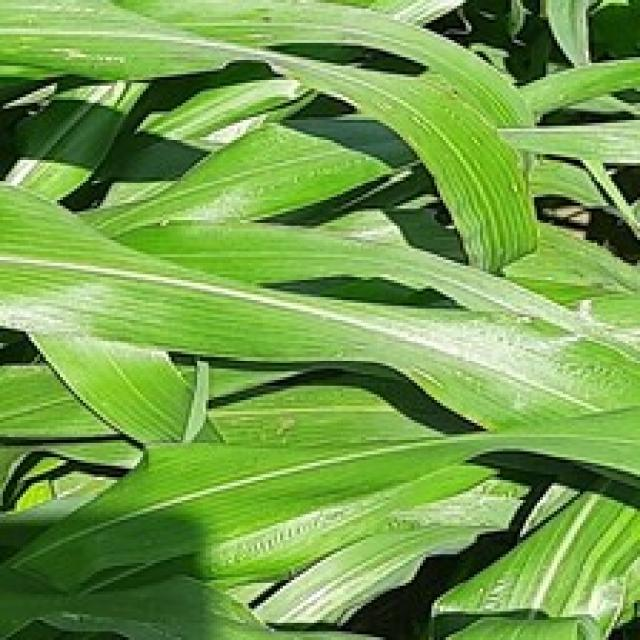Corn: (0, 0, 637, 637), (0, 168, 637, 443), (0, 0, 540, 271)
